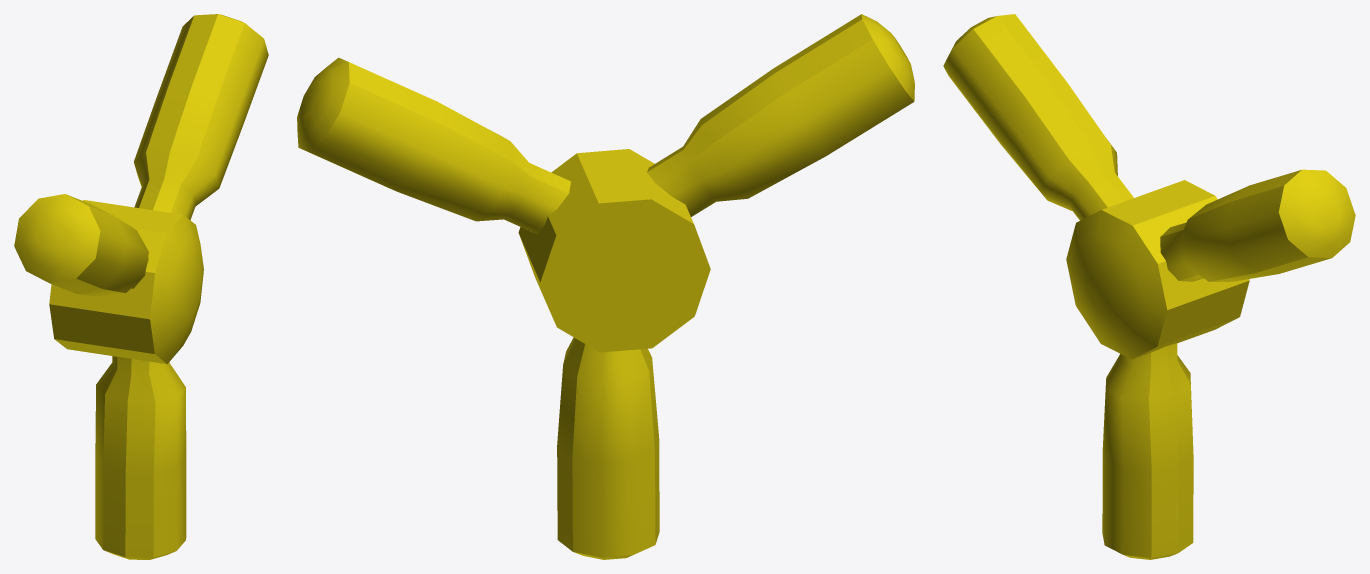
Rendered from DoorLock.fbx.
The picture shows the model from 3 angles, left to right: view 1: azimuth 30°, elevation 25°; view 2: azimuth 150°, elevation 25°; view 3: azimuth 270°, elevation 25°; orthographic projection. The views are drawn at different scales.
Parts seen in each view (by area): view 1: DoorLock; view 2: DoorLock; view 3: DoorLock.
Boxes of the visible parts, bbox=[...] form: DoorLock: bbox=[14, 14, 268, 559]; DoorLock: bbox=[297, 14, 914, 559]; DoorLock: bbox=[943, 14, 1355, 559].
Size of the model in its own units: 11.67 by 12.83 by 10.42.
